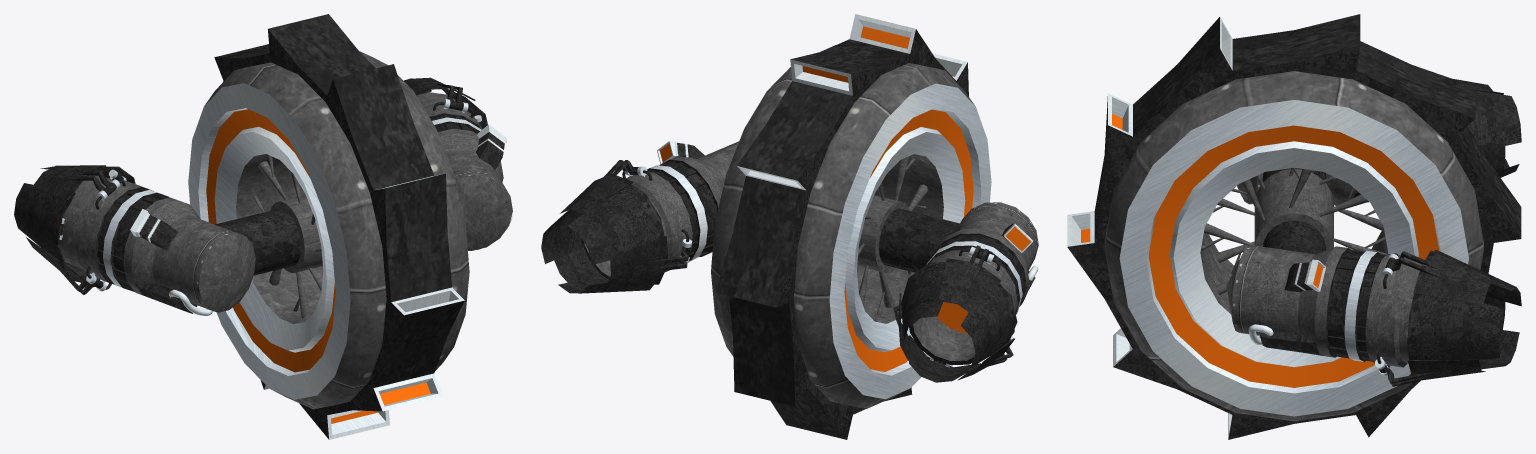
File: DeathWheel.dae
3 renders of one model, left to right at view 1: azimuth 30°, elevation 25°; view 2: azimuth 150°, elevation 25°; view 3: azimuth 270°, elevation 25°, orthographic. The views are drawn at different scales.
Visible parts, largest first — view 1: DeathWheel_2, rightThruster, leftThruster, Axel, polySurface119, polySurface115, rightSpokes, ThickSpinner_ncl1_1, polySurface99, outFlap3, ThinSpinner_ncl1_1; view 2: DeathWheel_2, rightThruster, leftThruster, inFlap2, Axel, polySurface119, outFlap2, polySurface115, polySurface113, outFlap3, inFlap3, rightSpokes (+7 smaller); view 3: DeathWheel_2, leftThruster, inFlap3, outFlap3, polySurface113, leftSpokes, ThickSpinner, Axel, outFlap1, rightSpokes, ThinSpinner, inFlap2 (+3 smaller).
Part boxes in pixels (<box>): DeathWheel_2: <box>188,14,469,439</box>; rightThruster: <box>59,169,255,315</box>; leftThruster: <box>416,92,512,250</box>; Axel: <box>215,208,300,275</box>; polySurface119: <box>14,183,75,266</box>; polySurface115: <box>32,165,116,199</box>; rightSpokes: <box>253,155,322,318</box>; ThickSpinner_ncl1_1: <box>112,194,168,291</box>; polySurface99: <box>26,237,103,294</box>; outFlap3: <box>413,77,475,110</box>; ThinSpinner_ncl1_1: <box>97,189,146,283</box>; DeathWheel_2: <box>711,14,991,439</box>; rightThruster: <box>909,202,1038,367</box>; leftThruster: <box>580,140,738,279</box>; inFlap2: <box>567,184,664,264</box>; Axel: <box>879,208,961,272</box>; polySurface119: <box>961,283,1017,367</box>; outFlap2: <box>605,235,690,287</box>; polySurface115: <box>938,245,1001,314</box>; polySurface113: <box>901,262,945,340</box>; outFlap3: <box>560,160,638,214</box>; inFlap3: <box>541,210,583,263</box>; rightSpokes: <box>858,156,928,315</box>; DeathWheel_2: <box>1067,14,1521,439</box>; leftThruster: <box>1226,245,1421,375</box>; inFlap3: <box>1407,293,1503,359</box>; outFlap3: <box>1385,250,1493,305</box>; polySurface113: <box>1468,90,1521,145</box>; leftSpokes: <box>1201,167,1386,294</box>; ThickSpinner: <box>1327,249,1364,358</box>; Axel: <box>1262,168,1325,254</box>; outFlap1: <box>1379,359,1485,386</box>; rightSpokes: <box>1213,168,1384,273</box>; ThinSpinner: <box>1356,254,1385,361</box>; inFlap2: <box>1434,249,1521,306</box>.
Size of the model in its own units: 5.97 by 4.8 by 5.02.
